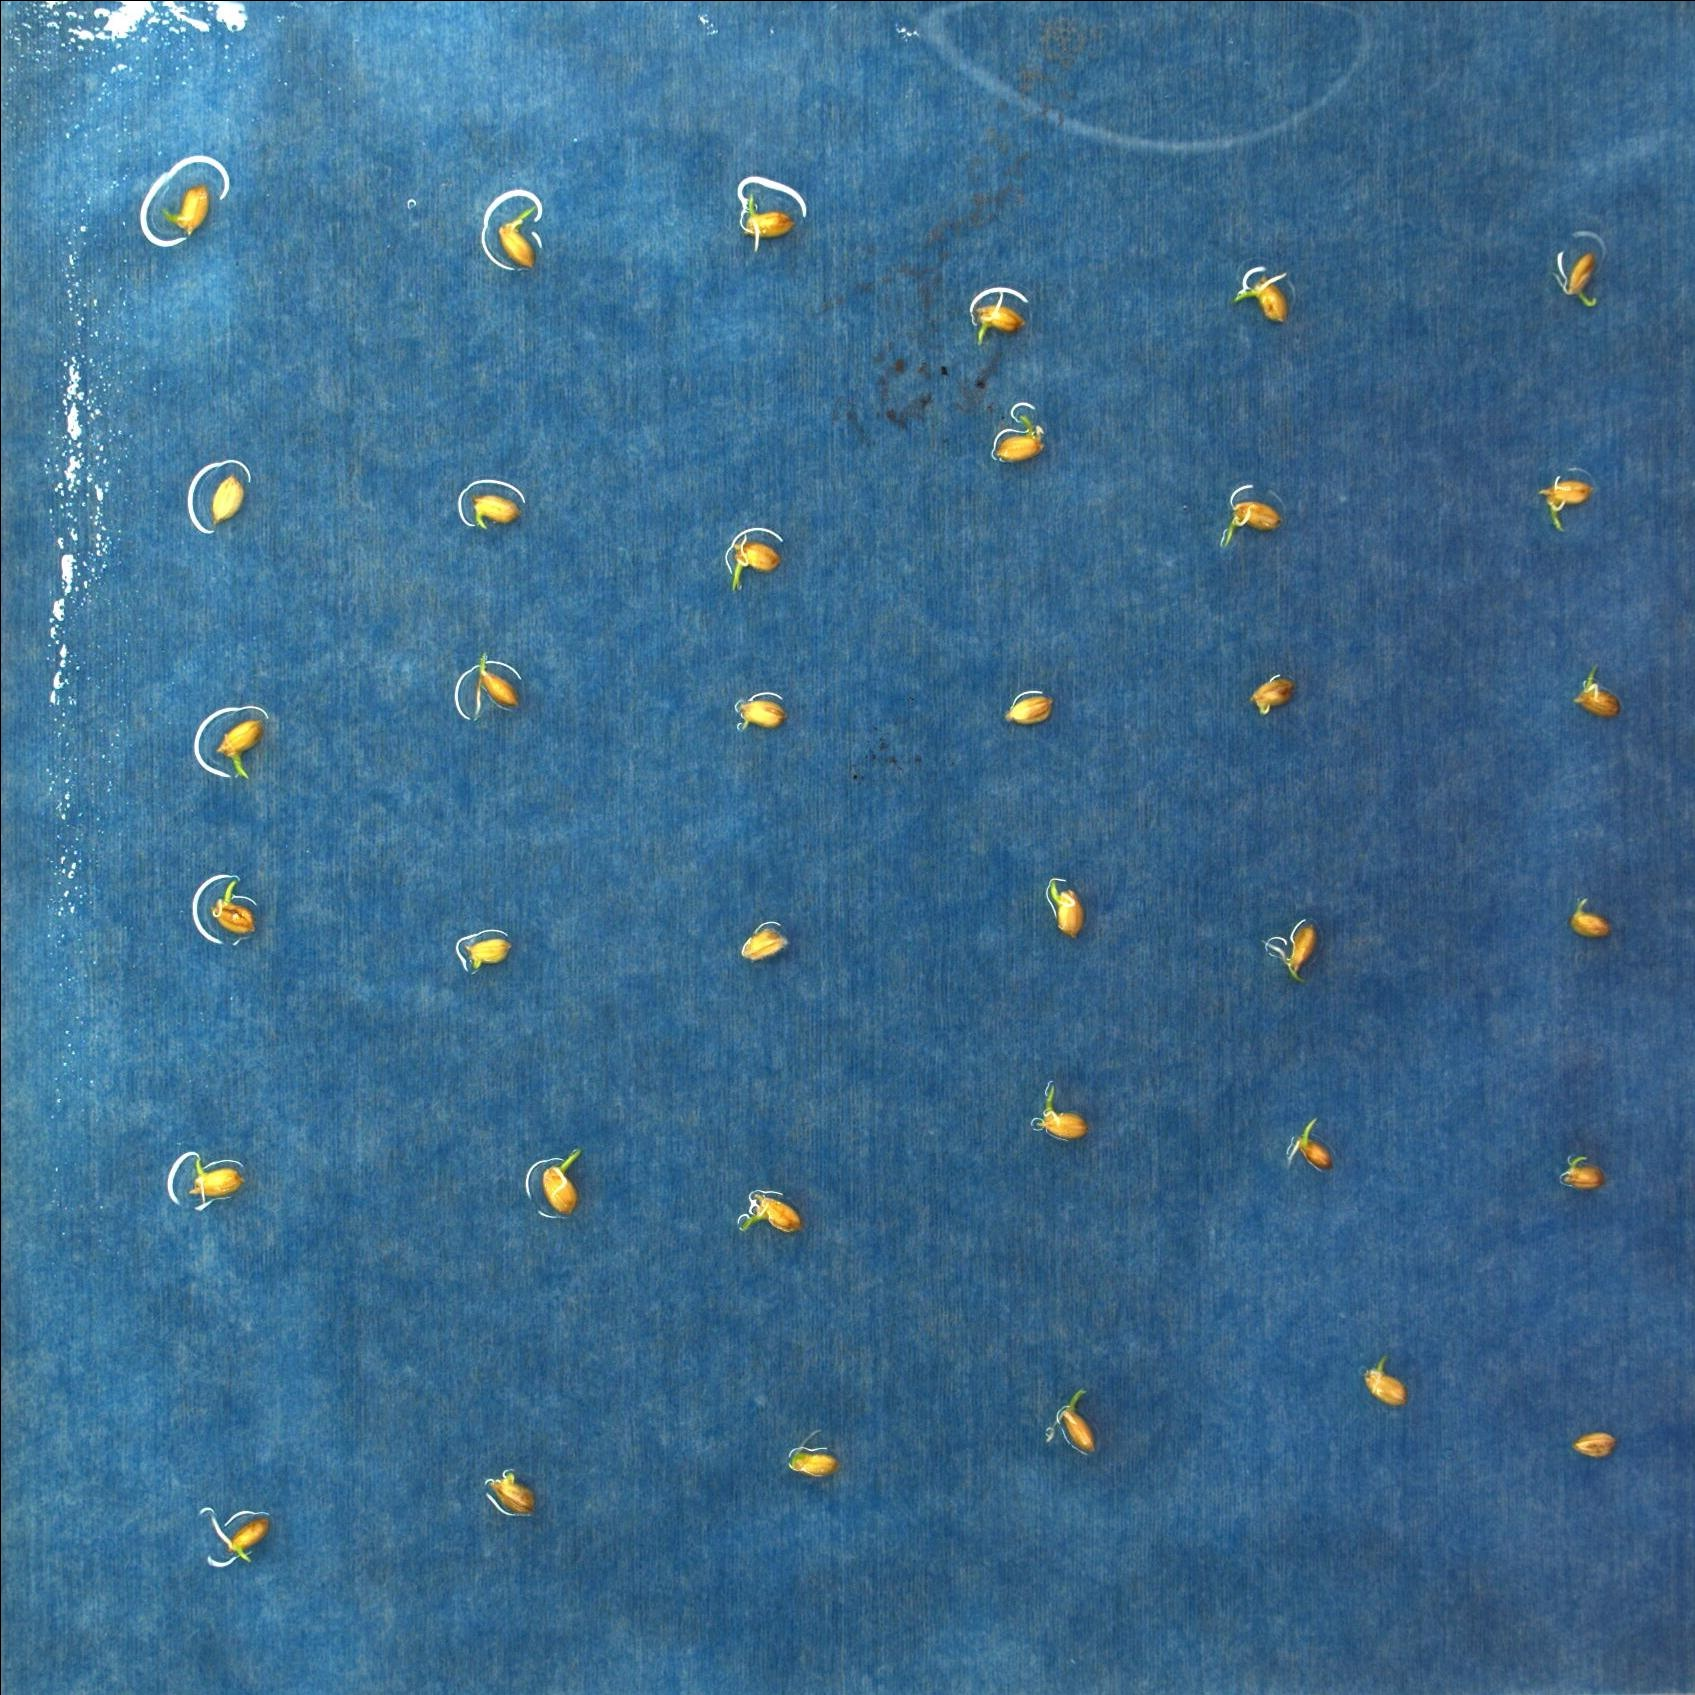not sprout: (1263, 906, 1329, 998), (733, 1180, 815, 1250), (1046, 1383, 1107, 1467), (466, 650, 529, 723), (1034, 1076, 1097, 1149), (1222, 484, 1291, 549), (180, 1150, 253, 1212), (964, 286, 1038, 345), (987, 408, 1052, 473), (206, 1503, 272, 1568), (1554, 241, 1607, 320), (1240, 265, 1304, 329), (1357, 1354, 1419, 1416), (489, 200, 542, 272), (166, 180, 217, 250), (740, 192, 792, 258), (1569, 669, 1627, 725), (469, 481, 528, 534), (1568, 893, 1620, 950), (1049, 880, 1093, 948), (459, 930, 522, 976), (480, 1470, 542, 1516), (742, 917, 795, 972), (1246, 664, 1298, 720), (778, 1440, 844, 1482), (726, 692, 795, 733), (200, 477, 255, 525), (1566, 1423, 1624, 1468), (1004, 688, 1059, 734), (1565, 1149, 1607, 1194)
sprout: (210, 874, 265, 958), (532, 1146, 593, 1222), (726, 529, 792, 598), (1540, 473, 1607, 536), (1287, 1114, 1338, 1180), (217, 714, 264, 781)
